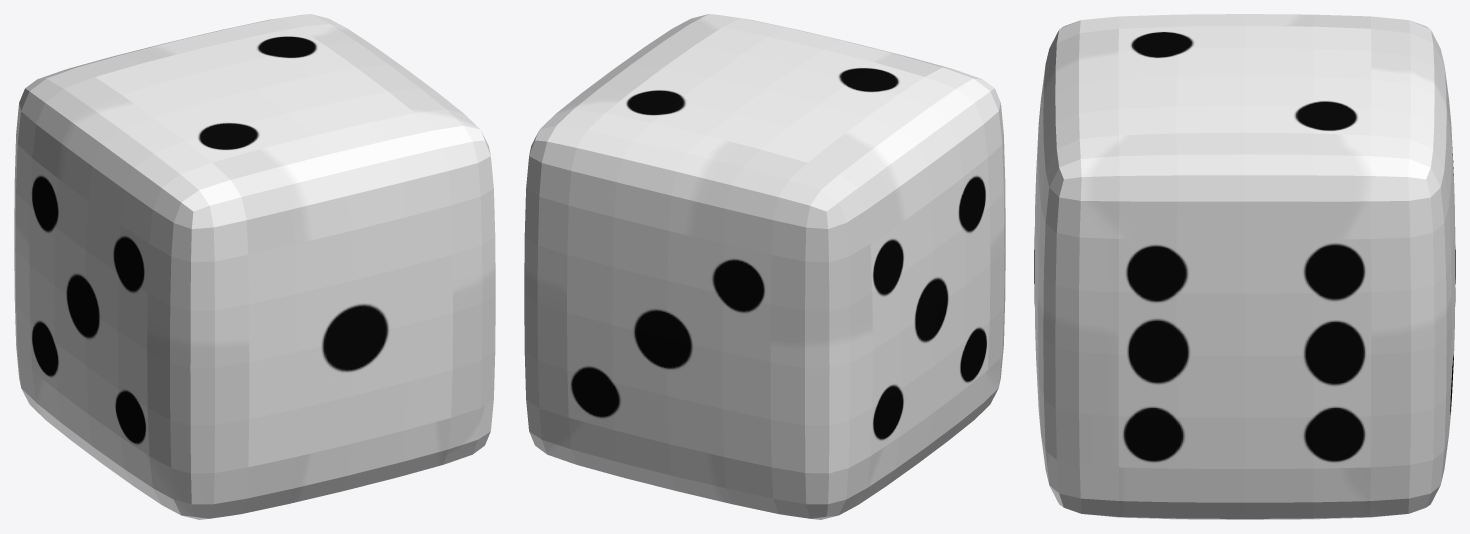
The model's file is fuzzy_die.fbx.
3 renders of one model, left to right at view 1: azimuth 30°, elevation 25°; view 2: azimuth 150°, elevation 25°; view 3: azimuth 270°, elevation 25°, orthographic. The views are drawn at different scales.
Visible parts, largest first — view 1: Dice; view 2: Dice; view 3: Dice.
Part boxes in pixels (<box>): Dice: <box>14,14,495,519</box>; Dice: <box>524,14,1005,519</box>; Dice: <box>1034,14,1455,519</box>.
Size of the model in its own units: 0.07 by 0.07 by 0.07.
1 material, 1 textured.
